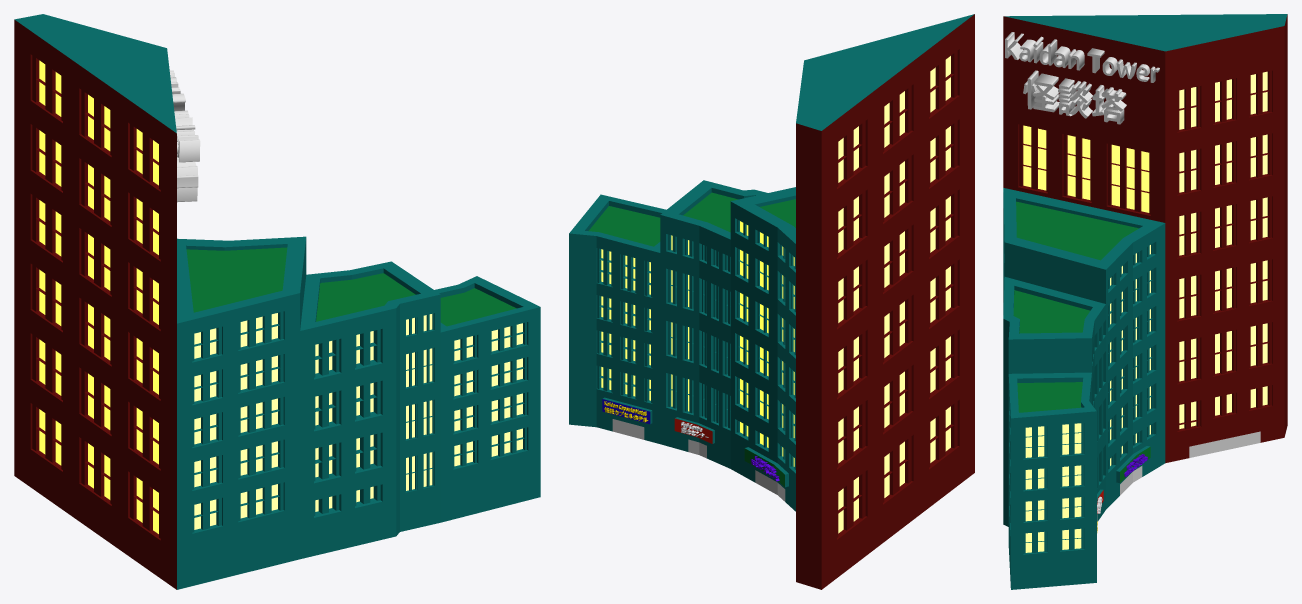
File: kaidan_complex.fbx
The picture shows the model from 3 angles, left to right: view 1: azimuth 30°, elevation 25°; view 2: azimuth 150°, elevation 25°; view 3: azimuth 270°, elevation 25°; orthographic projection. The views are drawn at different scales.
Parts seen in each view (by area): view 1: Plane, Text, Text.001; view 2: Plane; view 3: Plane, Text.001, Text.
Boxes of the visible parts, x1,y1,x2,y2 form: Plane: (14, 14, 540, 589); Text: (169, 70, 200, 162); Text.001: (177, 154, 198, 202); Plane: (569, 14, 974, 589); Plane: (1003, 14, 1287, 589); Text.001: (1023, 70, 1126, 124); Text: (1005, 32, 1159, 82).
Bounding box in the file's own units: 1539 × 1800 × 1126.
